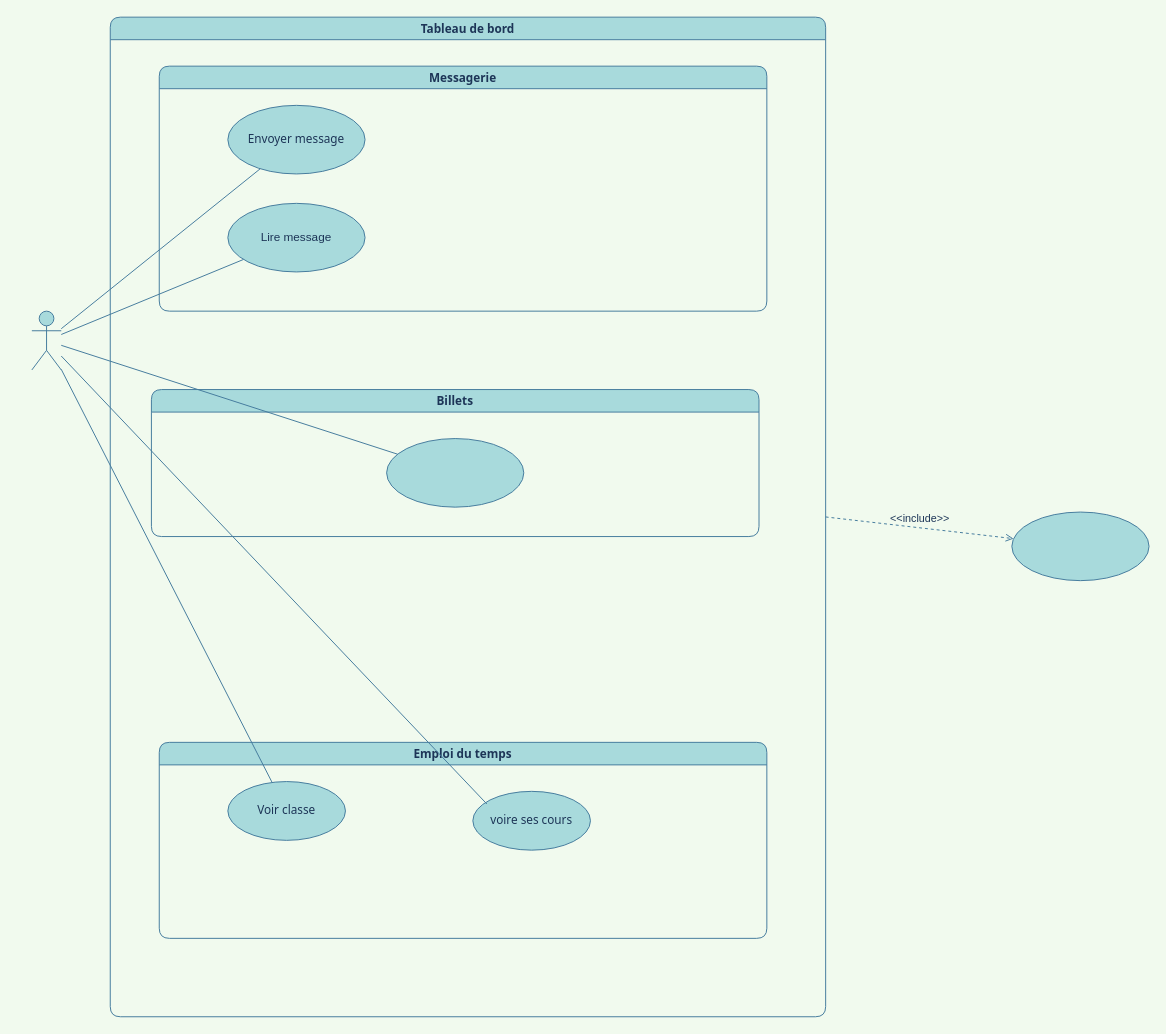
Some shapes in this 1166 by 1034 pixel diagram are drawn without their labels. Here are the shapes that lost their labels. From the top down, the centre of each, then its label:
the point at 46,340: Professeur
the point at 455,472: Consulter les billets
the point at 1080,546: S'authentifier
